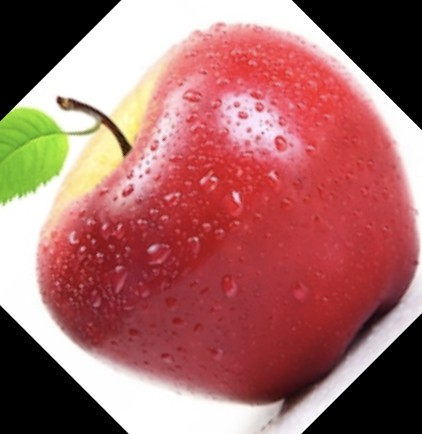fresh_apple: (37, 21, 421, 400)
